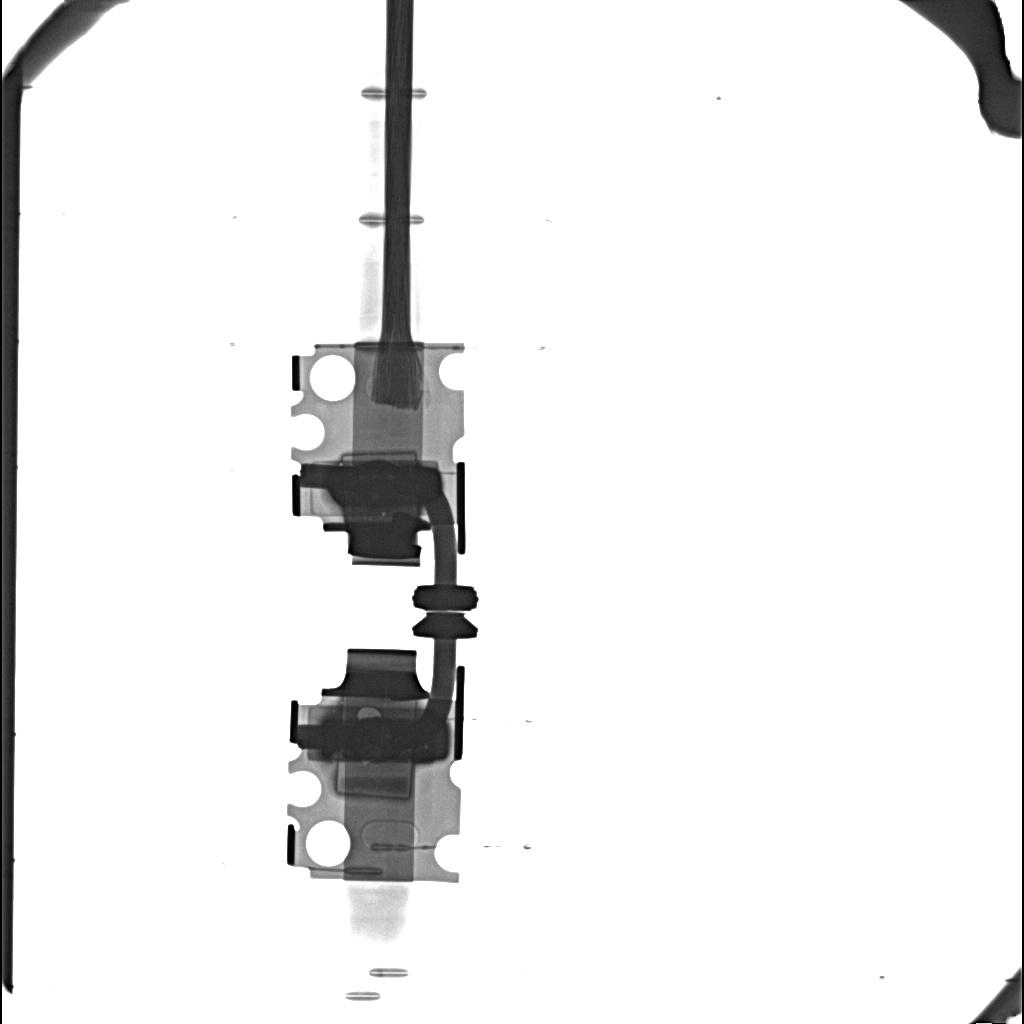气孔: (334, 761, 413, 799), (341, 451, 419, 463)
气泡: (357, 707, 381, 721)
水纹: (321, 718, 447, 761), (328, 460, 443, 506)
